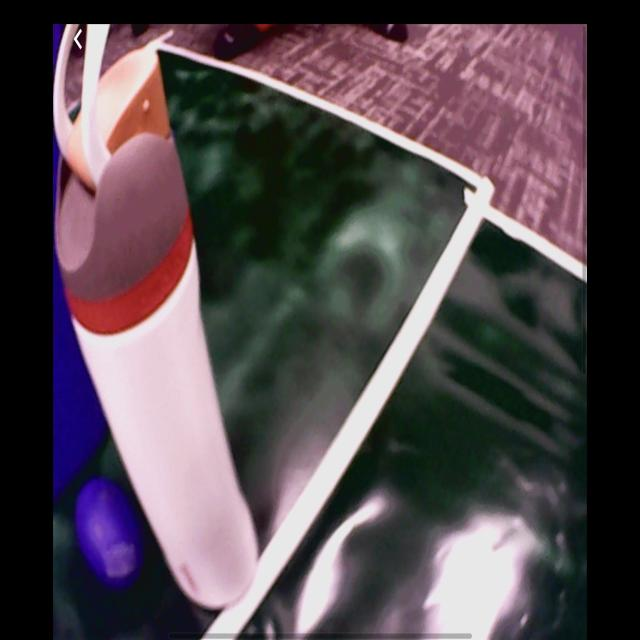ball: (77, 478, 143, 583)
